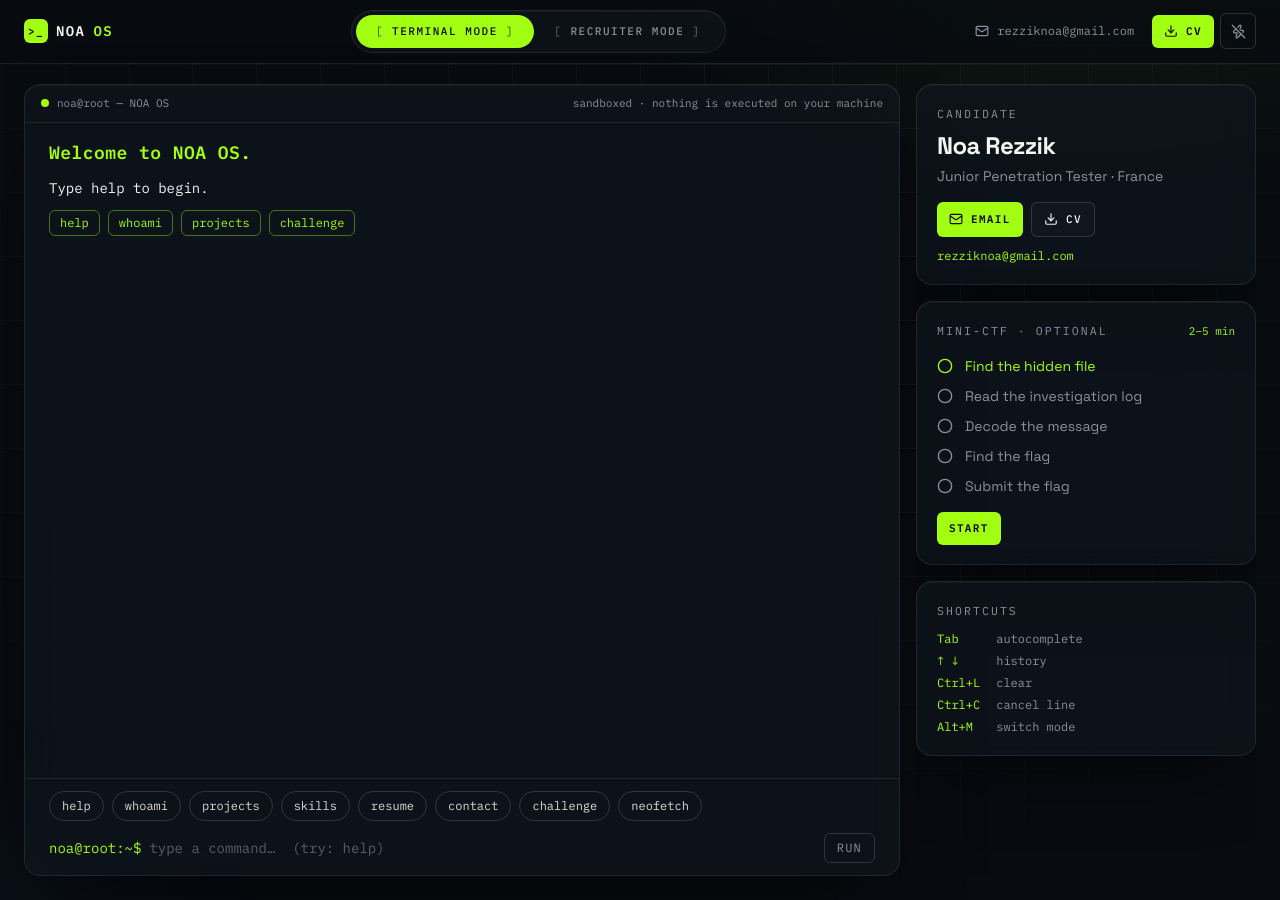
Test: terminal UI › sudo hire noa shows the verification sequence and a contact button
In the field named "Terminal command input": (483, 848) top-left (149, 837), bottom-right (816, 859), type "sudo hire noa"
Then press Enter
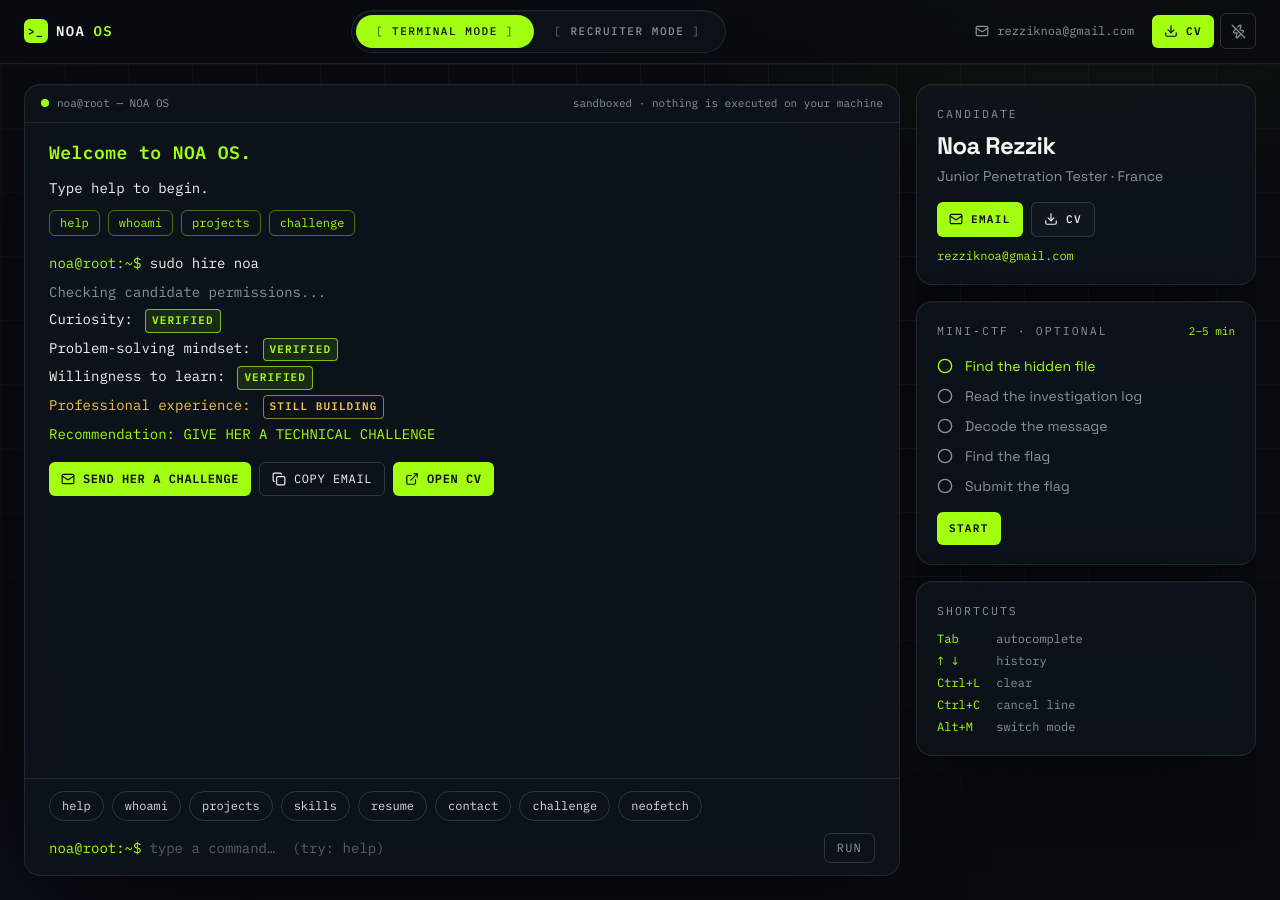
Expected: the text "Checking candidate permissions..." is shown, top-left (49, 281), bottom-right (326, 304)
Expected: the text "Recommendation: GIVE HER A TECHNICAL CHALLENGE" is shown, top-left (49, 423), bottom-right (435, 446)
